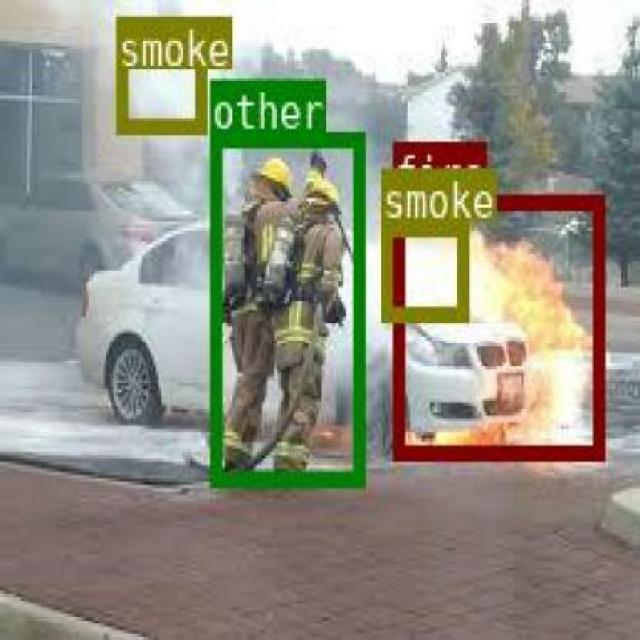Fire: (391, 191, 604, 458)
Smoke: (114, 13, 204, 130), (379, 219, 467, 318)
